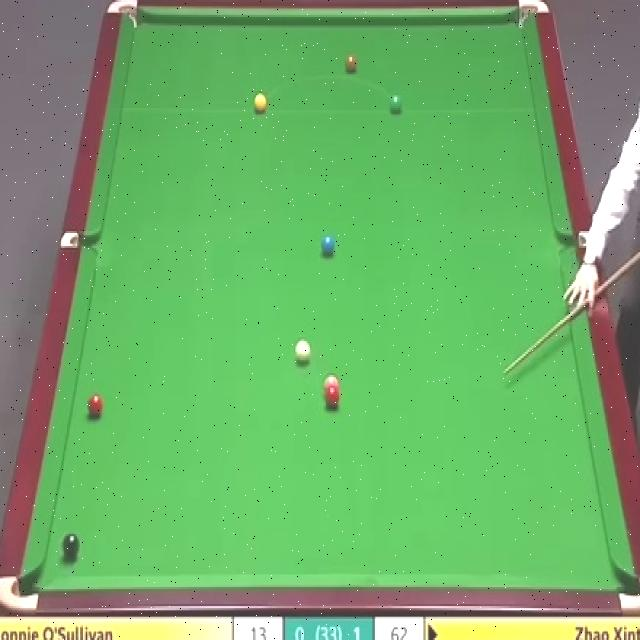black-ball: (61, 532, 79, 560)
blue-ball: (320, 234, 336, 258)
brown-ball: (344, 54, 358, 76)
green-ball: (388, 93, 402, 114)
pink-ball: (323, 374, 340, 390)
red-ball: (86, 392, 103, 420), (324, 387, 341, 409)
white-ball: (295, 339, 312, 366)
yellow-ball: (254, 94, 267, 114)
